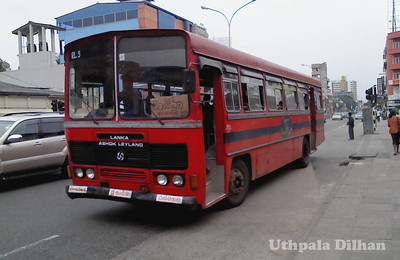bus: (64, 28, 325, 210)
car: (1, 112, 71, 180)
